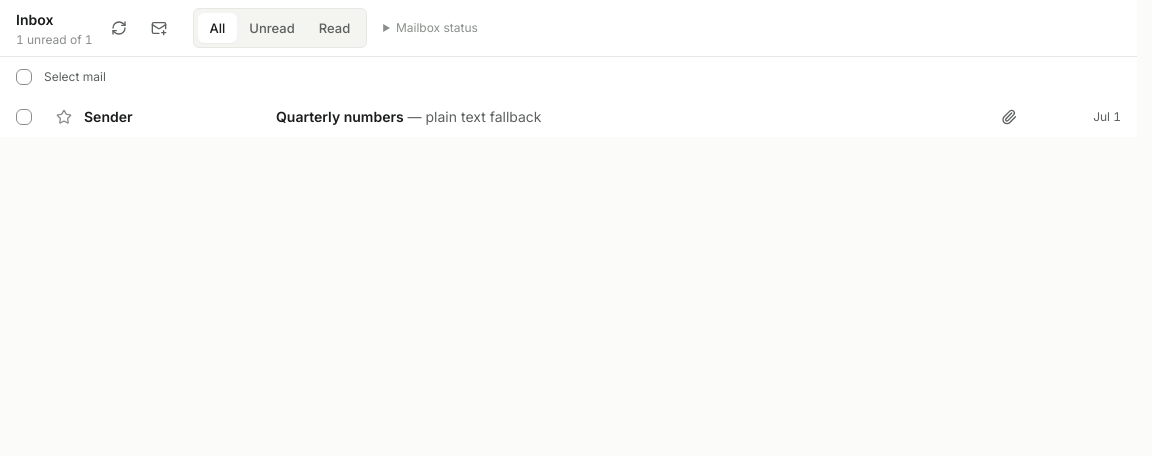
Test: Inbox attachments › lists a received attachment with its size
Click the button "Sender Quarterly numbers — plain text fallback" at (106, 115), box [84,98,1017,136]
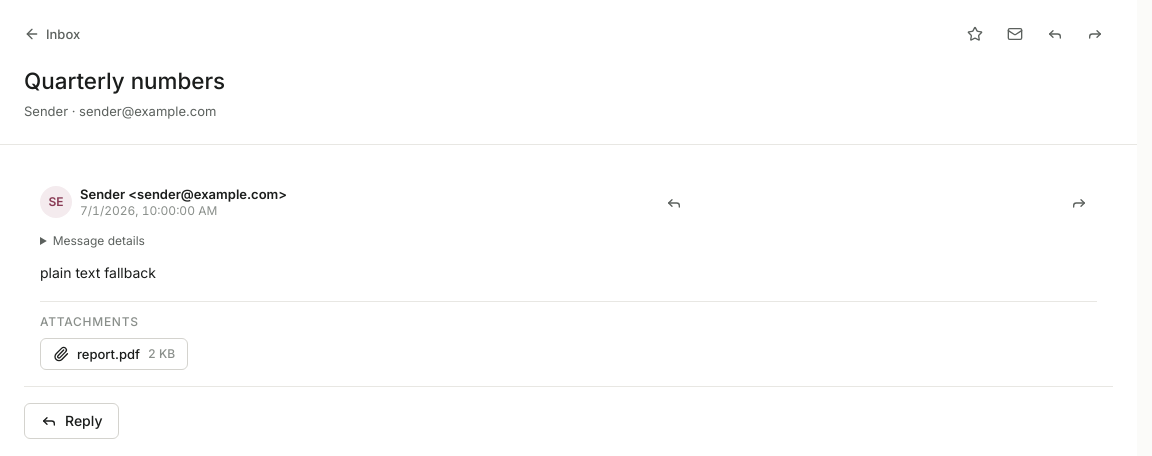
expect the text "Attachments" is shown: met, box [40,314,139,329]
expect the text "report.pdf" is shown: met, box [77,345,140,363]
expect the text "2 KB" is shown: met, box [148,346,175,362]
